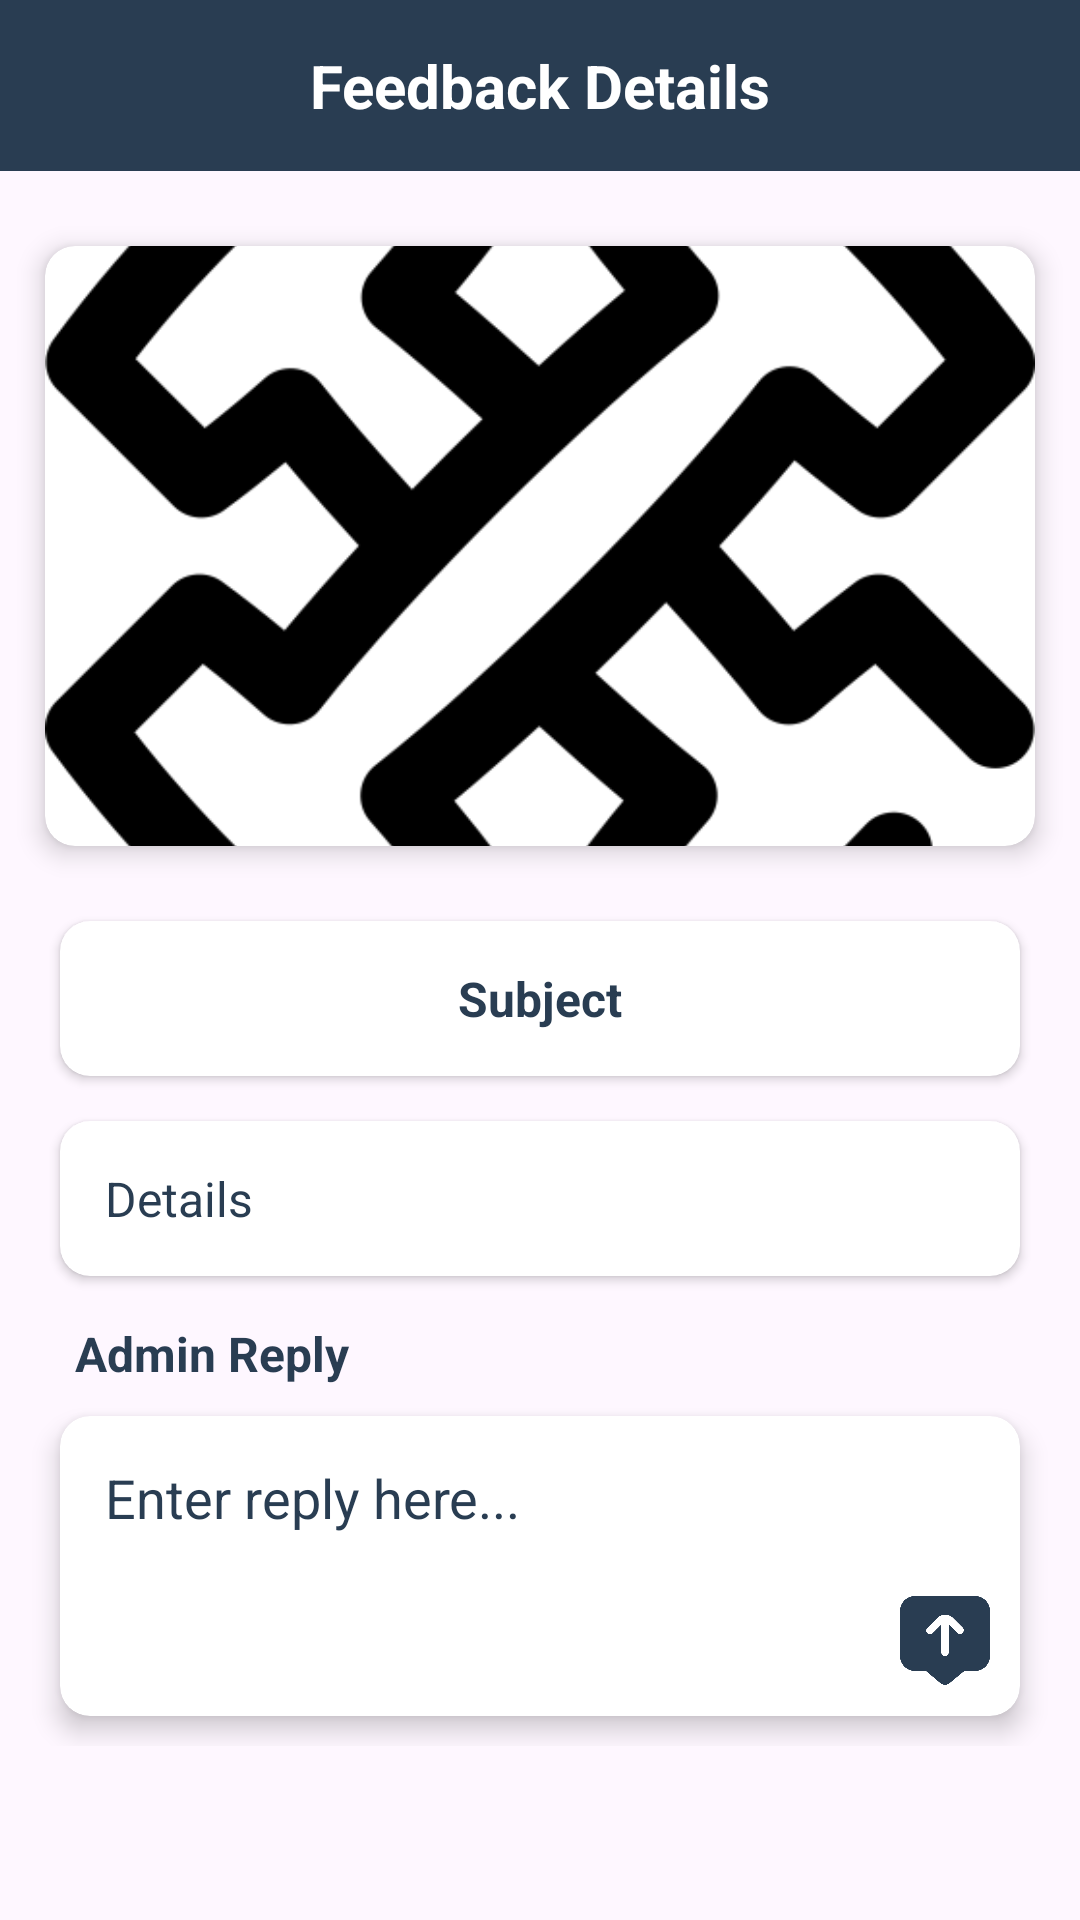

Icons on this 1080 x 1920 Android screen, each with the point to tap as (x,y):
upload: (945,1640)
